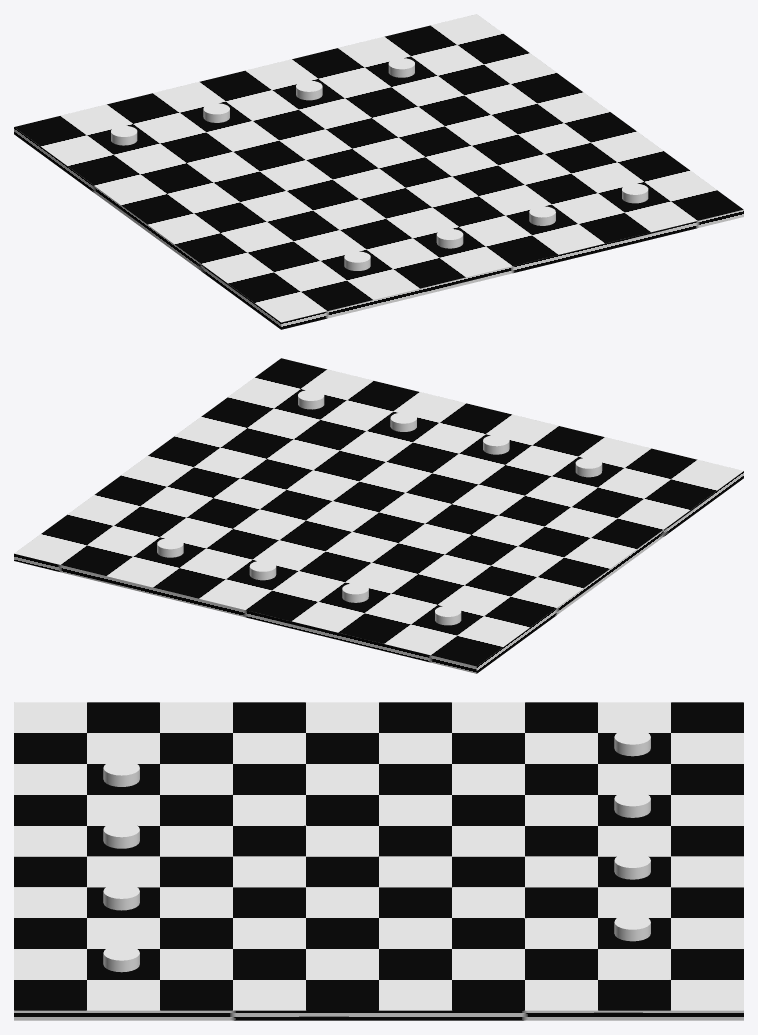
Rendered from tenjo1.fbx.
3 renders of one model, top to bottom at view 1: azimuth 30°, elevation 25°; view 2: azimuth 150°, elevation 25°; view 3: azimuth 270°, elevation 25°, orthographic. The views are drawn at different scales.
Visible parts, largest first — view 1: pCube1; view 2: pCube1; view 3: pCube1, pCylinder2 (×2), pCylinder1 (×2), pCylinder4 (×2), pCylinder3 (×2).
Boxes of the visible parts, x1,y1,x2,y2 form: pCube1: (14,14,743,329); pCube1: (14,358,743,673); pCube1: (14,702,743,1020); pCylinder2 (×2): (103,852,650,910); pCylinder1 (×2): (103,914,650,972); pCylinder4 (×2): (103,729,650,786); pCylinder3 (×2): (103,791,650,848).
Bounding box in the file's own units: 2000 × 100 × 2000.
Materials: 2 (1 with a texture image).
